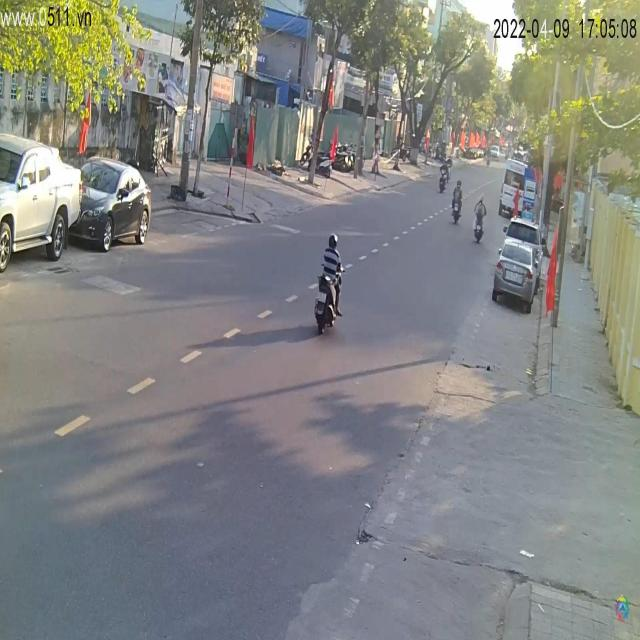car: (1, 132, 84, 276), (72, 159, 155, 253), (494, 234, 547, 314)
motorcycle: (312, 287, 338, 335), (471, 207, 487, 246)
